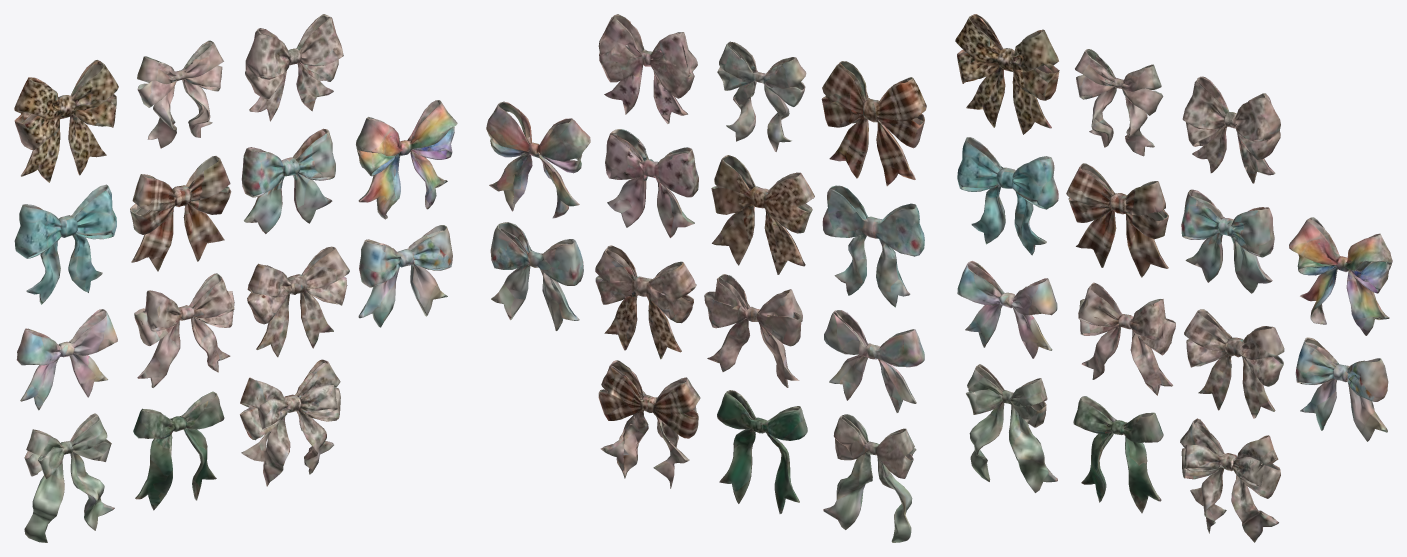
3 renders of one model, left to right at view 1: azimuth 30°, elevation 25°; view 2: azimuth 150°, elevation 25°; view 3: azimuth 330°, elevation 25°, orthographic.
Parts seen in each view (by area): view 1: Mesh 1, Mesh 9, Mesh 5, Mesh 16, Mesh 2, Mesh 12, Mesh 4, Mesh 11, Mesh 10, Mesh 8, Mesh 17, Mesh 6 (+2 smaller); view 2: Mesh 1, Mesh 5, Mesh 9, Mesh 2, Mesh 12, Mesh 11, Mesh 16, Mesh 10, Mesh 4, Mesh 8, Mesh 17, Mesh 7 (+2 smaller); view 3: Mesh 1, Mesh 9, Mesh 5, Mesh 16, Mesh 4, Mesh 12, Mesh 2, Mesh 11, Mesh 10, Mesh 8, Mesh 17, Mesh 7 (+2 smaller).
Part boxes in pixels (left/top/right/bottom): Mesh 1: left=14, top=60, right=118, bottom=182; Mesh 9: left=240, top=359, right=340, bottom=486; Mesh 5: left=130, top=156, right=231, bottom=271; Mesh 16: left=356, top=100, right=457, bottom=219; Mesh 2: left=14, top=184, right=116, bottom=304; Mesh 12: left=247, top=246, right=349, bottom=357; Mesh 4: left=24, top=413, right=114, bottom=542; Mesh 11: left=245, top=14, right=343, bottom=121; Mesh 10: left=241, top=128, right=335, bottom=233; Mesh 8: left=134, top=273, right=234, bottom=387; Mesh 17: left=358, top=225, right=452, bottom=327; Mesh 6: left=133, top=391, right=224, bottom=510; Mesh 1: left=821, top=61, right=926, bottom=186; Mesh 5: left=711, top=155, right=814, bottom=274; Mesh 9: left=598, top=360, right=700, bottom=488; Mesh 2: left=822, top=185, right=924, bottom=307; Mesh 12: left=595, top=245, right=696, bottom=359; Mesh 11: left=598, top=14, right=697, bottom=123; Mesh 16: left=486, top=101, right=590, bottom=218; Mesh 10: left=605, top=129, right=698, bottom=237; Mesh 4: left=823, top=414, right=916, bottom=542; Mesh 8: left=704, top=274, right=802, bottom=387; Mesh 17: left=490, top=222, right=583, bottom=330; Mesh 7: left=717, top=41, right=806, bottom=151; Mesh 1: left=955, top=14, right=1059, bottom=134; Mesh 9: left=1180, top=418, right=1280, bottom=542; Mesh 5: left=1066, top=163, right=1168, bottom=277; Mesh 16: left=1289, top=217, right=1392, bottom=335; Mesh 4: left=966, top=364, right=1057, bottom=492; Mesh 12: left=1184, top=309, right=1284, bottom=418; Mesh 2: left=957, top=137, right=1058, bottom=255; Mesh 11: left=1182, top=76, right=1280, bottom=183; Mesh 10: left=1181, top=189, right=1274, bottom=293; Mesh 8: left=1078, top=282, right=1175, bottom=395; Mesh 17: left=1295, top=337, right=1388, bottom=441; Mesh 7: left=1075, top=49, right=1163, bottom=156.
Bounding box in the file's own units: 1.84 × 1.88 × 0.1439.
Materials: 14 (14 with a texture image).
